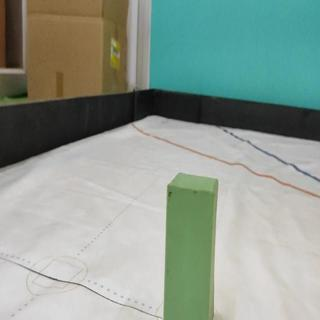greenbox: (162, 170, 220, 320)
